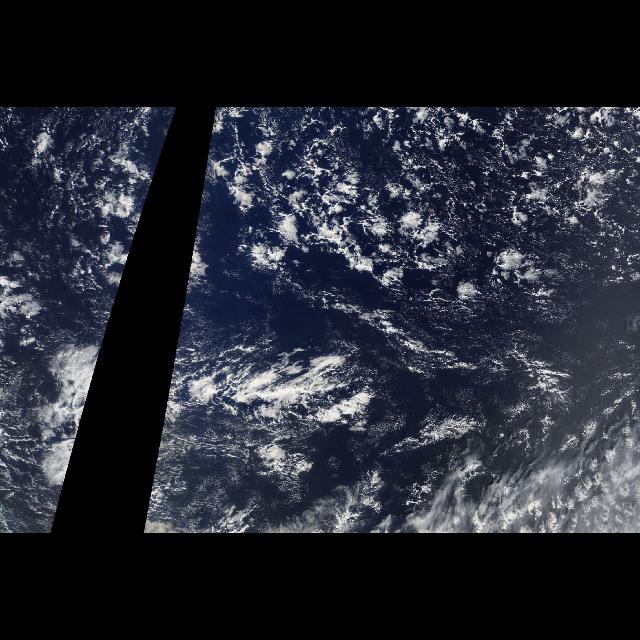Fish: (161, 323, 639, 493), (84, 338, 105, 412)
Flower: (232, 154, 624, 318)
Gravel: (192, 107, 640, 307)
